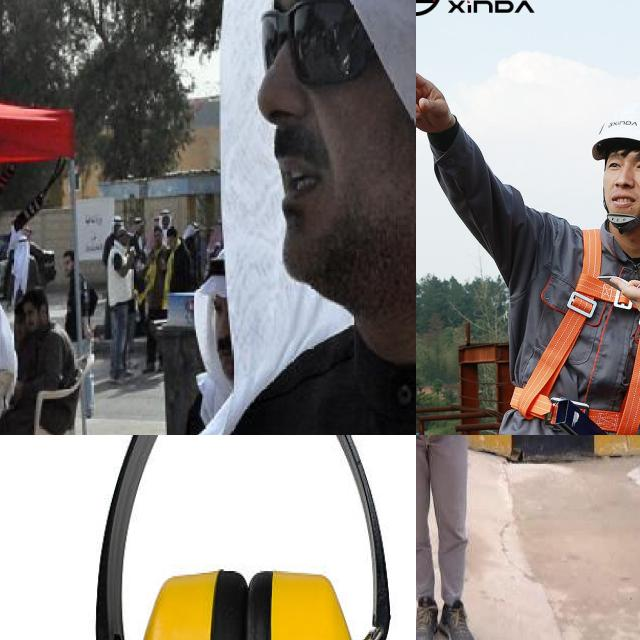Ear-protection: (61, 435, 409, 640)
Harness: (532, 232, 640, 435)
boots: (441, 601, 480, 640), (416, 592, 439, 640)
face_nomask: (242, 4, 382, 238)
glasses: (263, 0, 410, 104)
person: (416, 435, 572, 640)
